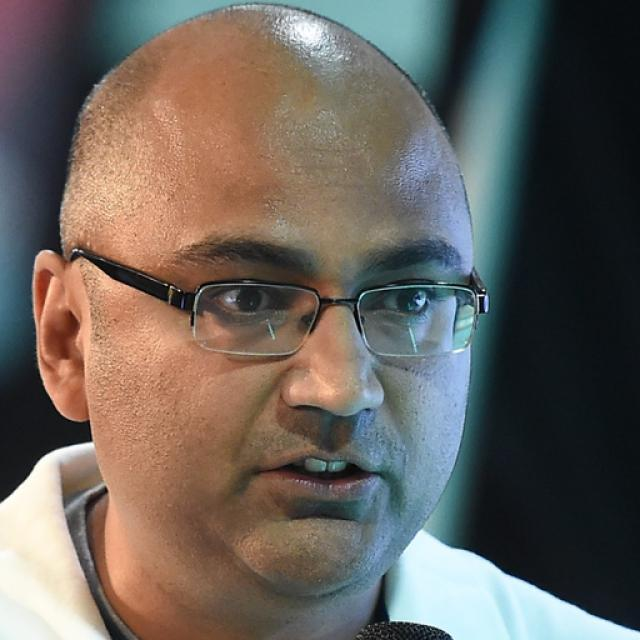neutral: (94, 95, 474, 591)
